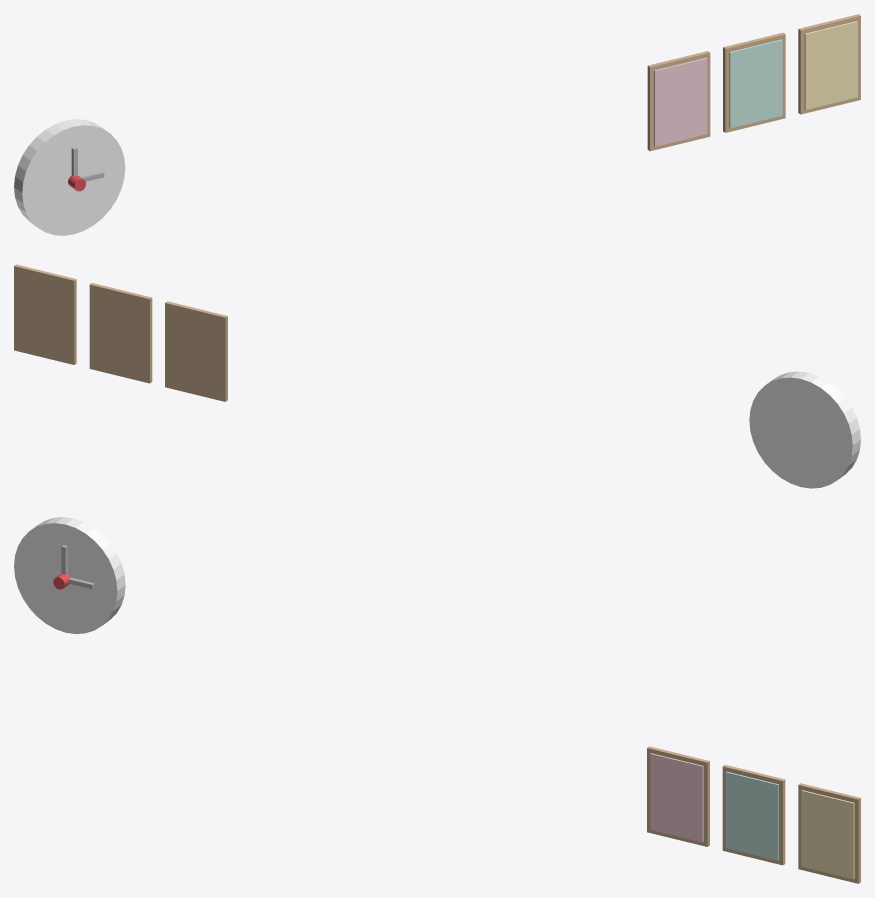
The model's file is Wall_ClockPoster.glb.
3 renders of one model, top to bottom at view 1: azimuth 30°, elevation 25°; view 2: azimuth 150°, elevation 25°; view 3: azimuth 330°, elevation 25°, orthographic.
Visible parts, largest first — view 1: WallClock_Body, Poster_Paper_1, Poster_Paper_2, Poster_Paper_3, Poster_Frame_1, Poster_Frame_2, Poster_Frame_3; view 2: WallClock_Body, Poster_Frame_2, Poster_Frame_1, Poster_Frame_3; view 3: WallClock_Body, Poster_Paper_1, Poster_Paper_3, Poster_Paper_2, Poster_Frame_2, Poster_Frame_1, Poster_Frame_3.
Part boxes in pixels (box(x1,y1,x2,y2)): WallClock_Body: box(14, 119, 125, 235); Poster_Paper_1: box(654, 58, 707, 146); Poster_Paper_2: box(729, 39, 782, 128); Poster_Paper_3: box(804, 21, 857, 109); Poster_Frame_1: box(647, 51, 710, 151); Poster_Frame_2: box(723, 32, 785, 132); Poster_Frame_3: box(798, 14, 860, 114); WallClock_Body: box(749, 371, 860, 488); Poster_Frame_2: box(89, 283, 152, 383); Poster_Frame_1: box(165, 301, 227, 401); Poster_Frame_3: box(14, 264, 76, 364); WallClock_Body: box(14, 517, 125, 633); Poster_Paper_1: box(650, 753, 703, 842); Poster_Paper_3: box(801, 790, 854, 879); Poster_Paper_2: box(726, 771, 778, 860); Poster_Frame_2: box(722, 765, 785, 865); Poster_Frame_1: box(647, 746, 709, 846); Poster_Frame_3: box(798, 783, 860, 883).
Size of the model in its own units: 8.37 by 1.59 by 0.2566.
